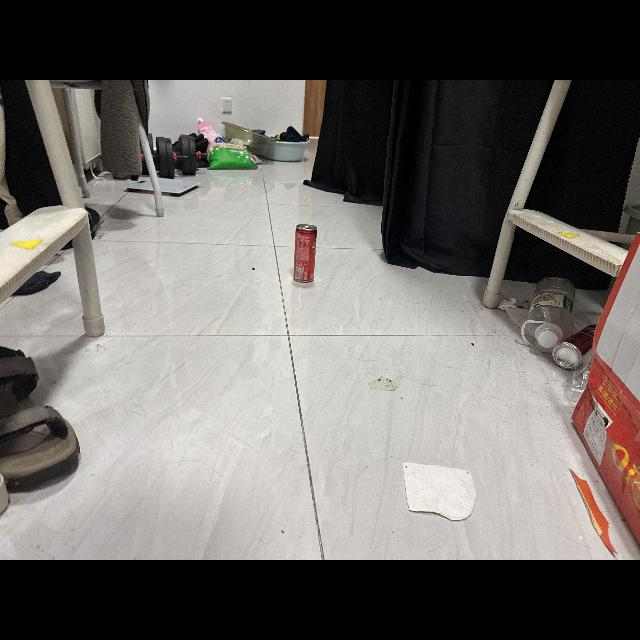Cola: (288, 220, 324, 288)
